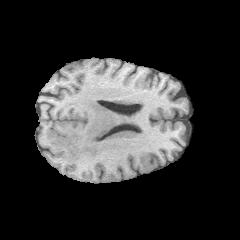glioma: (49, 102, 124, 161)
